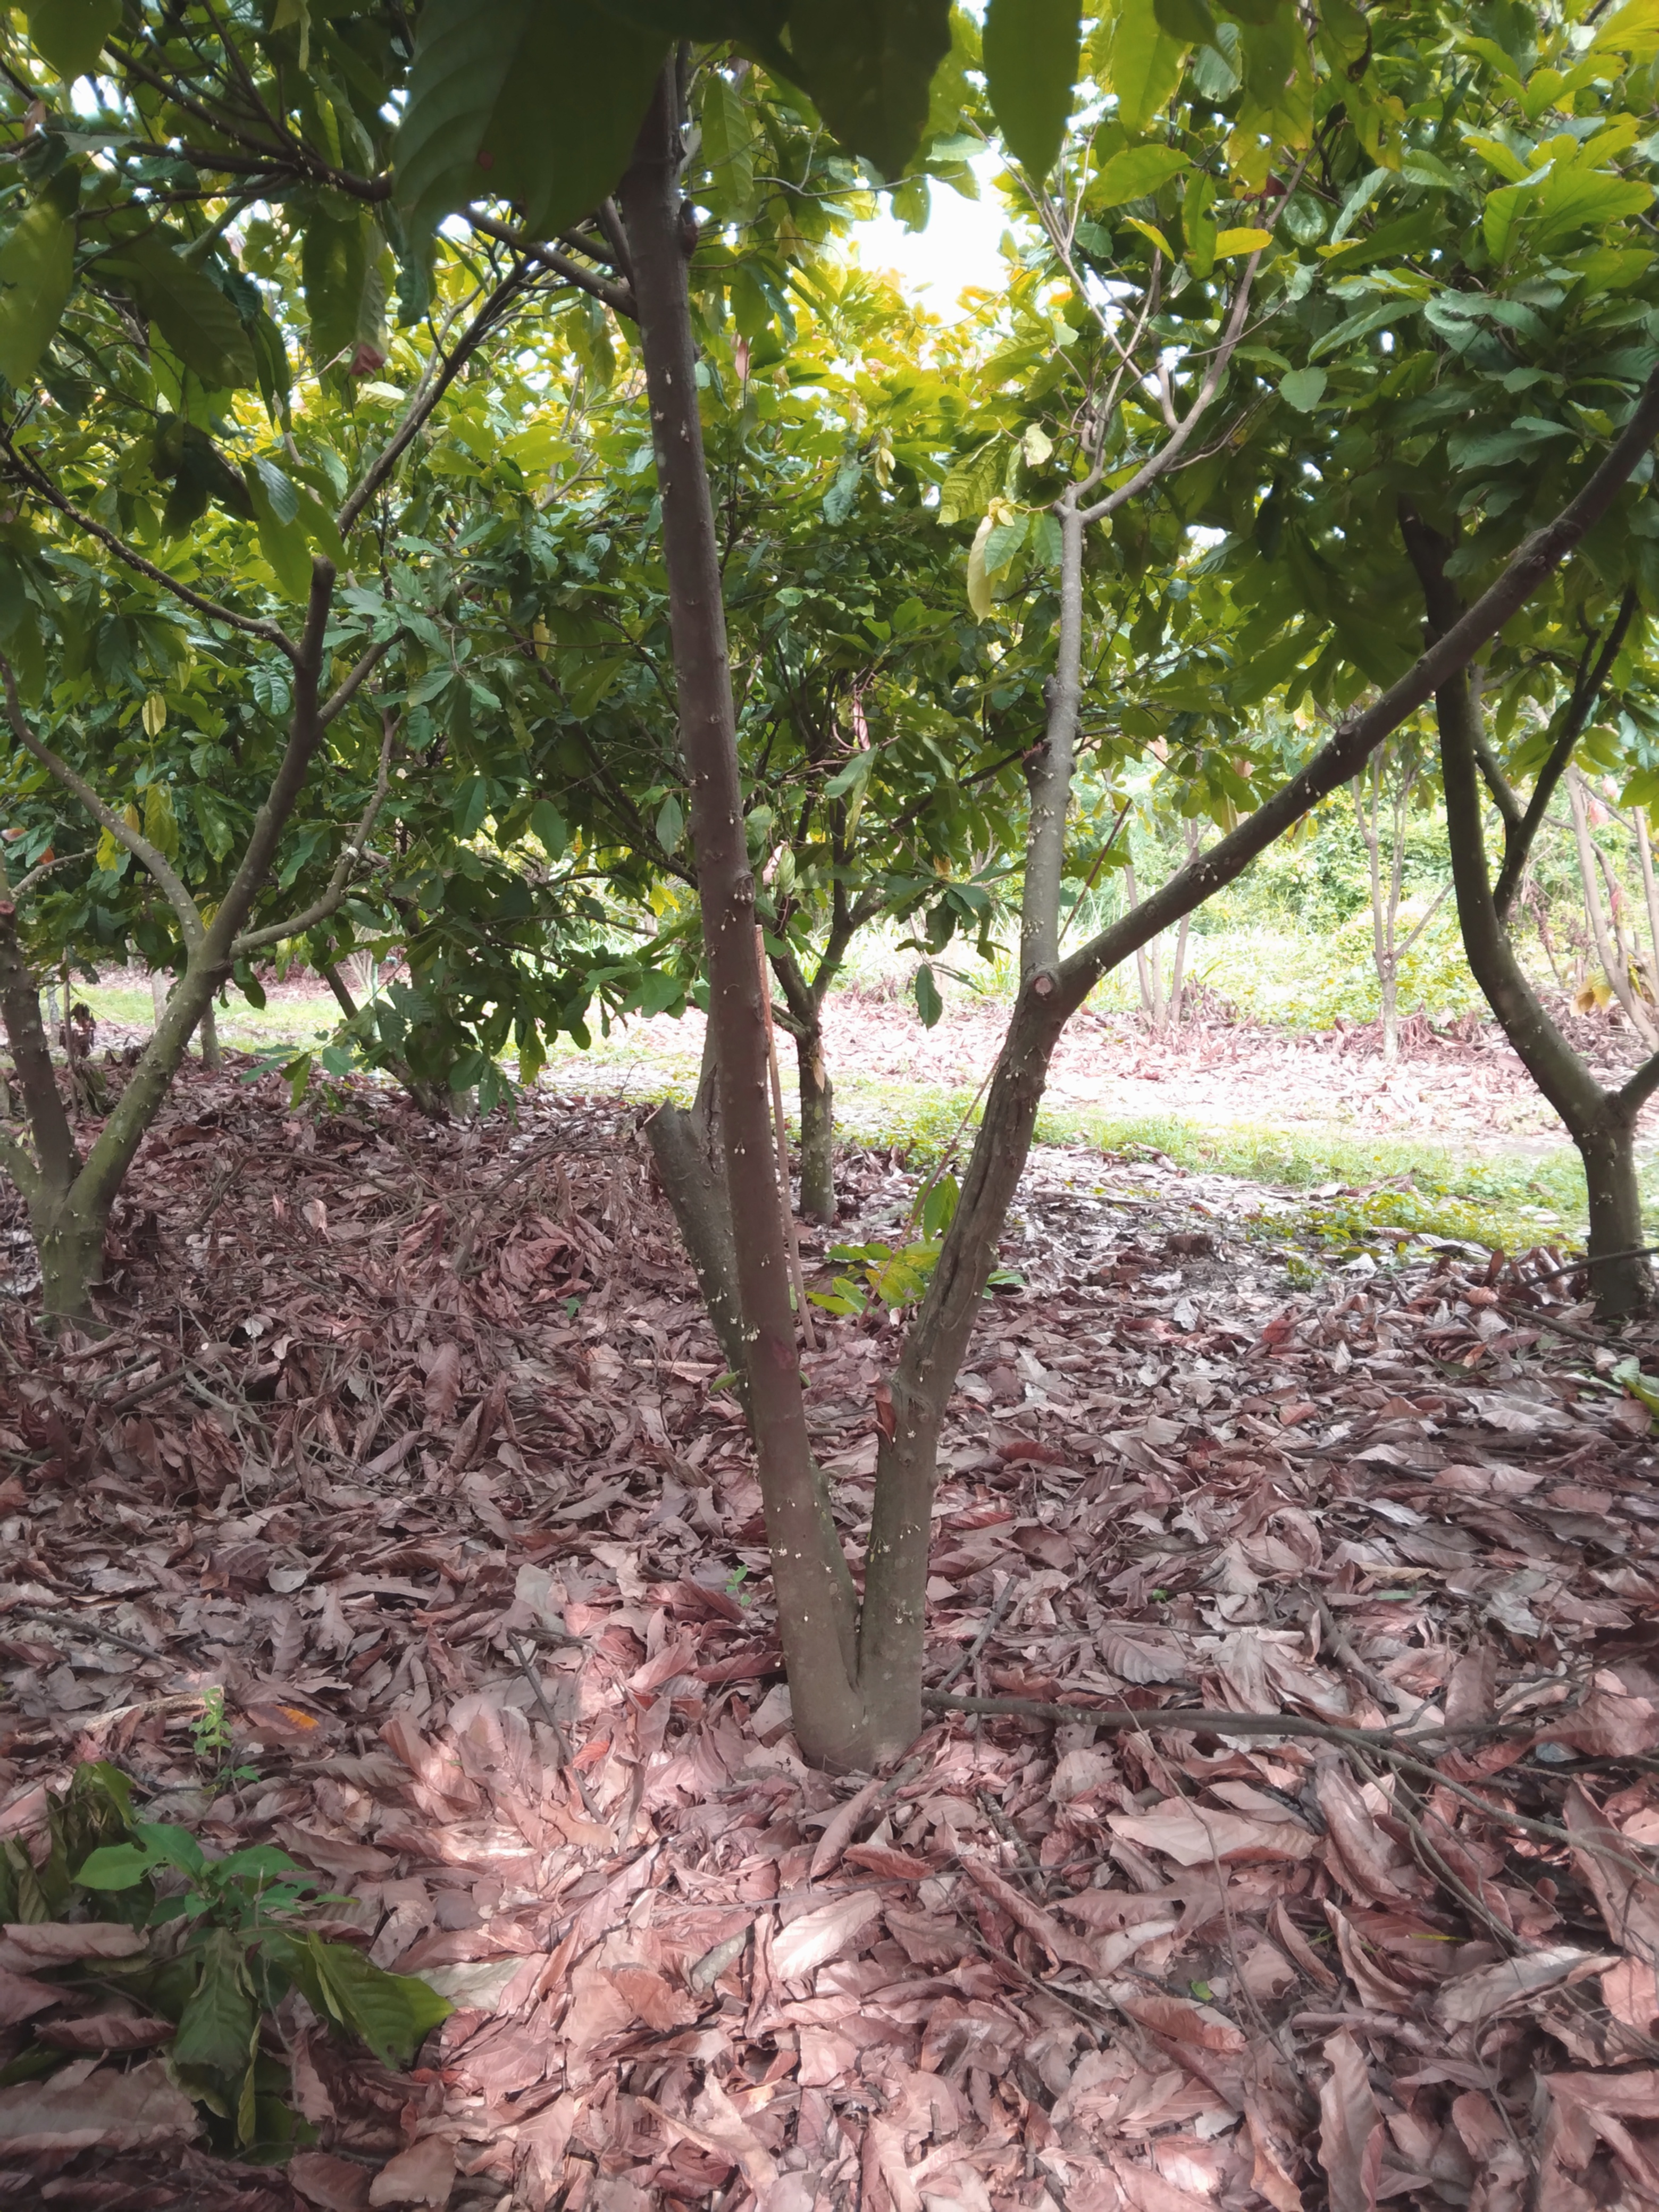cocoa_pod: (1021, 1221, 1047, 1273), (981, 2139, 1000, 2170), (1021, 1129, 1046, 1153), (915, 2146, 941, 2160), (918, 2132, 936, 2142), (1164, 1043, 1173, 1055)
flower: (563, 799, 587, 846), (681, 817, 708, 855), (591, 805, 615, 845), (617, 813, 638, 853), (643, 583, 667, 617), (573, 1261, 594, 1299), (274, 1303, 298, 1334), (336, 1249, 361, 1280), (704, 1247, 721, 1284), (659, 1205, 678, 1238), (678, 1224, 697, 1256), (582, 448, 599, 481), (990, 1197, 1011, 1223), (549, 420, 568, 446), (716, 732, 735, 758), (1140, 982, 1155, 1014), (1152, 1160, 1169, 1188), (359, 1313, 378, 1338), (962, 1240, 979, 1266), (927, 873, 943, 900), (796, 848, 814, 873), (983, 1217, 997, 1245), (317, 1287, 336, 1306), (606, 1217, 619, 1247), (303, 1325, 322, 1343), (1066, 988, 1082, 1008), (781, 827, 795, 850), (1164, 1103, 1180, 1122), (756, 1968, 769, 1993), (845, 2040, 857, 2064), (936, 1181, 950, 1202), (856, 1212, 868, 1235), (1115, 1148, 1131, 1165), (1241, 1158, 1251, 1184), (1021, 977, 1040, 991), (737, 1230, 749, 1251), (903, 2104, 915, 2123), (823, 824, 835, 843), (941, 1271, 957, 1285), (1206, 1007, 1222, 1021), (781, 2146, 791, 2165), (1075, 949, 1086, 968), (943, 1240, 957, 1254), (1072, 1007, 1082, 1024), (824, 2006, 833, 2026), (1290, 1062, 1300, 1078), (962, 904, 972, 918), (1206, 1129, 1216, 1141), (1157, 1141, 1169, 1151), (803, 1982, 812, 1996), (810, 2174, 817, 2189), (859, 2107, 868, 2120), (1121, 1120, 1129, 1129), (845, 2017, 850, 2024)
